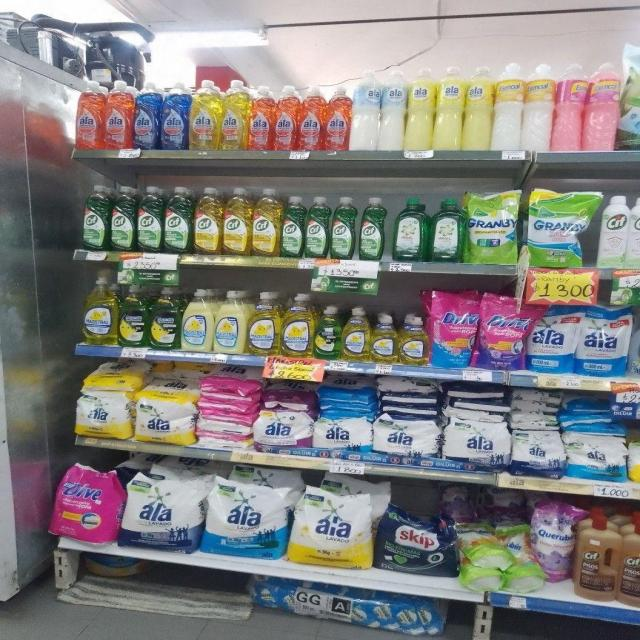ala_conc_amarillo: (190, 78, 220, 150), (221, 79, 248, 150)
ala_conc_azul: (161, 78, 189, 150), (133, 80, 160, 150)
ala_conc_rojo: (74, 80, 104, 149), (104, 79, 133, 150), (274, 85, 299, 151), (300, 85, 324, 151), (249, 84, 273, 150), (326, 85, 350, 150)
ala_crem_amarillo: (464, 66, 492, 150), (436, 66, 464, 150), (406, 68, 434, 150)
ala_crem_blanco: (351, 74, 379, 150), (379, 69, 405, 150)
cif_conc_bot_amarilla: (223, 186, 251, 256), (194, 186, 222, 255), (252, 188, 280, 256)
cif_conc_botella_verde: (392, 195, 428, 262), (430, 194, 465, 262), (80, 184, 110, 252), (164, 185, 192, 254), (137, 185, 163, 253), (359, 197, 387, 260), (330, 196, 357, 260), (111, 185, 136, 252), (305, 195, 329, 259), (282, 195, 304, 258)
magistral_con_amarillo: (81, 275, 118, 346), (248, 291, 280, 356), (282, 293, 314, 357), (399, 314, 428, 366), (342, 307, 369, 362), (371, 313, 397, 364)
magistral_con_crema: (214, 288, 246, 354), (182, 288, 212, 352)
